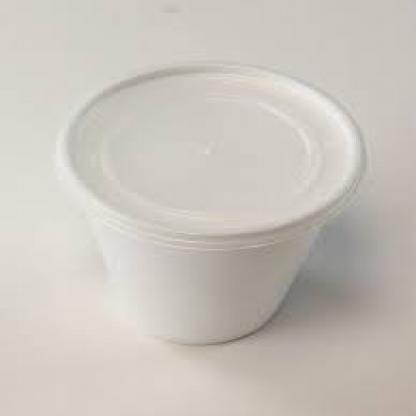Plastic: (60, 56, 369, 363)
